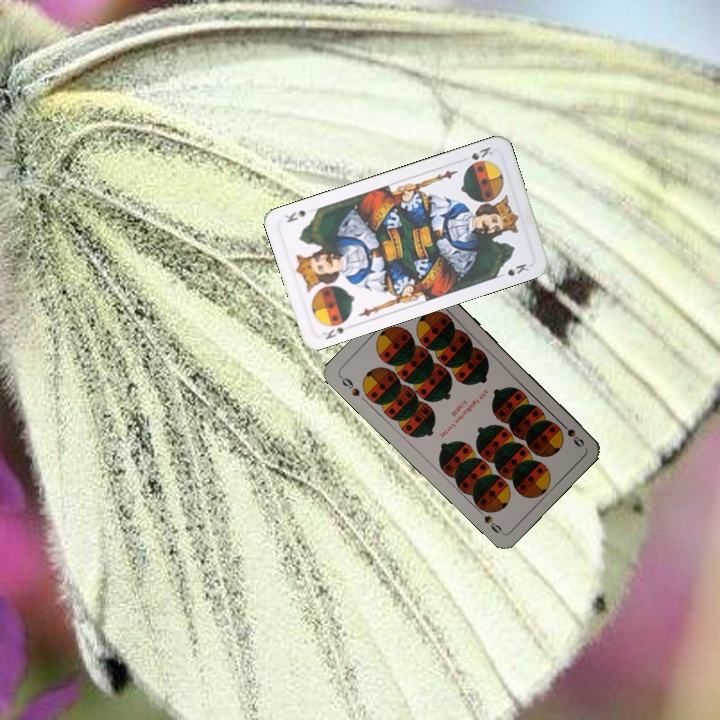S9: (555, 417, 587, 450), (336, 372, 363, 399)
SK: (467, 143, 496, 163), (319, 323, 347, 342)
